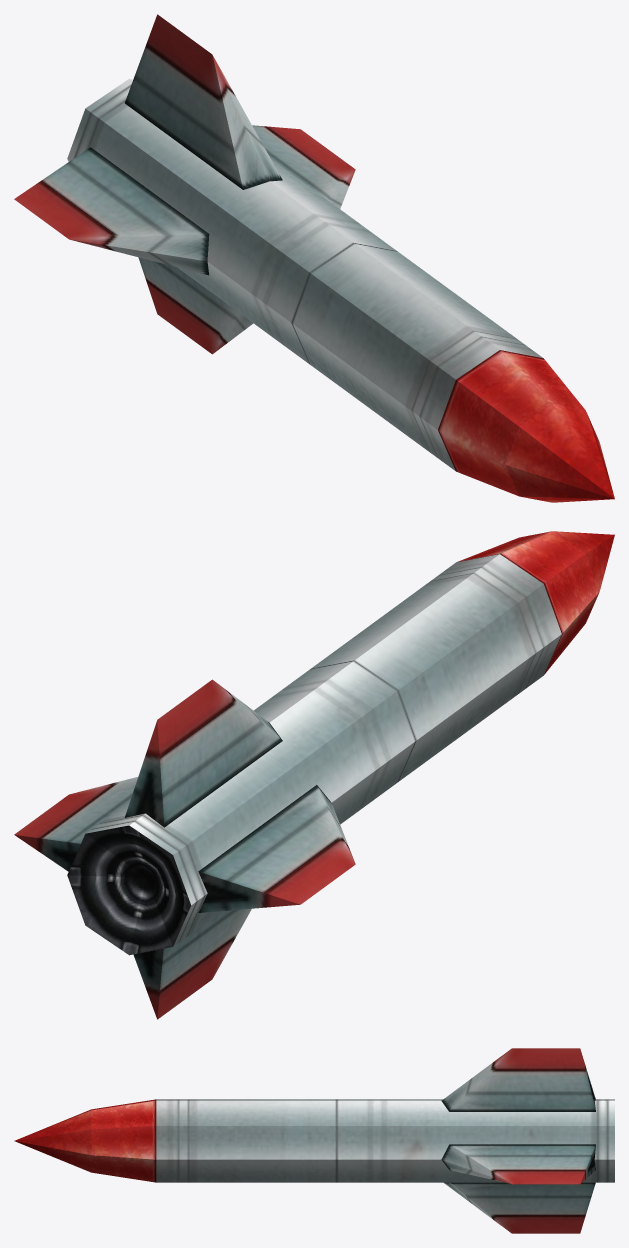
The model's file is BBLT6Y289HRMFUPXB4F97YQGM.fbx.
The picture shows the model from 3 angles, top to bottom: view 1: azimuth 30°, elevation 25°; view 2: azimuth 150°, elevation 25°; view 3: azimuth 270°, elevation 25°; orthographic projection. The views are drawn at different scales.
Visible parts, largest first — view 1: Object_ROCKETS.jpg; view 2: Object_ROCKETS.jpg; view 3: Object_ROCKETS.jpg.
Part boxes in pixels (x1=…): Object_ROCKETS.jpg: x1=14, y1=14, x2=614, y2=502; Object_ROCKETS.jpg: x1=14, y1=531, x2=614, y2=1019; Object_ROCKETS.jpg: x1=14, y1=1048, x2=614, y2=1233.
Bounding box in the file's own units: 0.852 × 0.852 × 2.5.
Materials: 1 (1 with a texture image).
